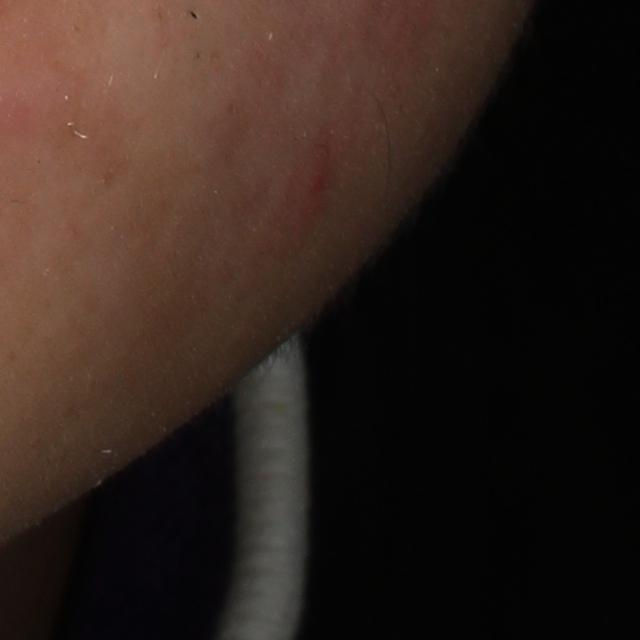papule: (300, 149, 332, 210)
